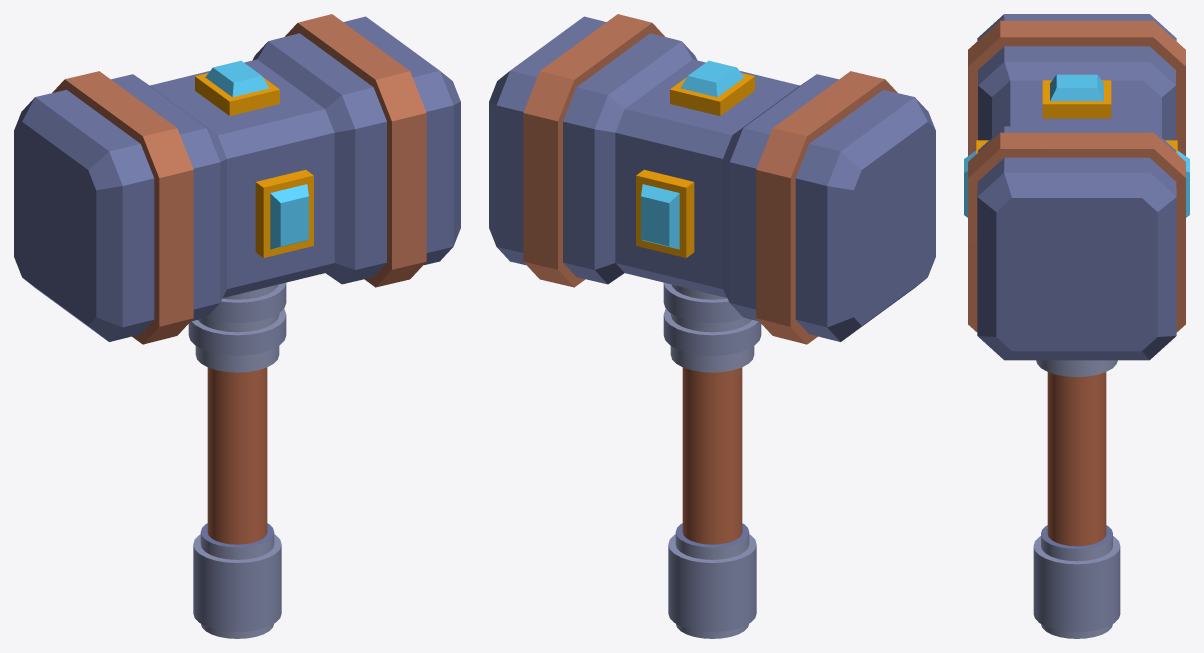
Rendered from Hammer C Multi.fbx.
3 views of the same model, side by side, from view 1: azimuth 30°, elevation 25°; view 2: azimuth 150°, elevation 25°; view 3: azimuth 270°, elevation 25° (orthographic).
Visible parts, largest first — view 1: Hammer C Multi; view 2: Hammer C Multi; view 3: Hammer C Multi.
Part boxes in pixels (x1=…): Hammer C Multi: x1=14, y1=14, x2=460, y2=638; Hammer C Multi: x1=489, y1=14, x2=935, y2=638; Hammer C Multi: x1=964, y1=14, x2=1189, y2=638.
Size of the model in its own units: 0.7265 by 1.05 by 0.3964.
